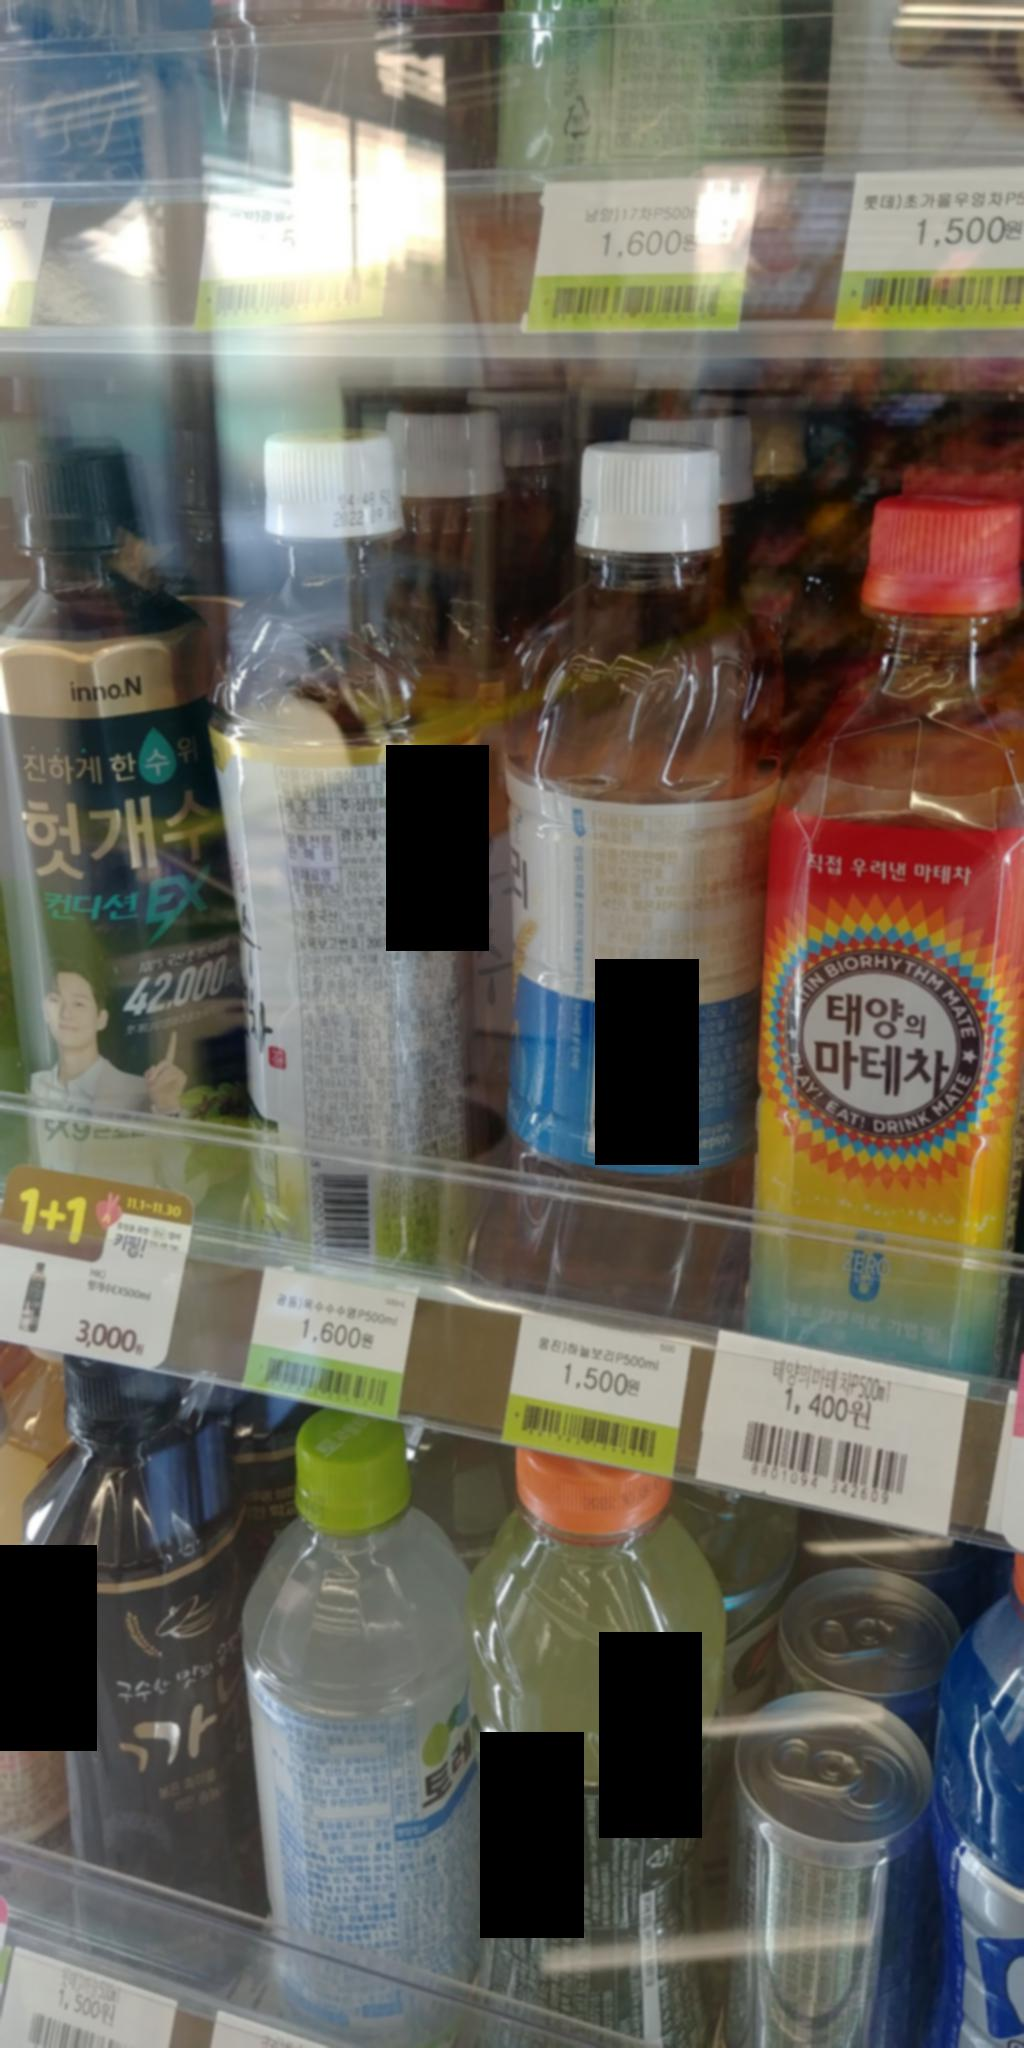gatorade_lemon: (461, 1425, 738, 2047)
haneulbori: (461, 426, 782, 1326)
oksususuyeomcha: (199, 410, 502, 1270)
toreta: (214, 1398, 502, 2038)
